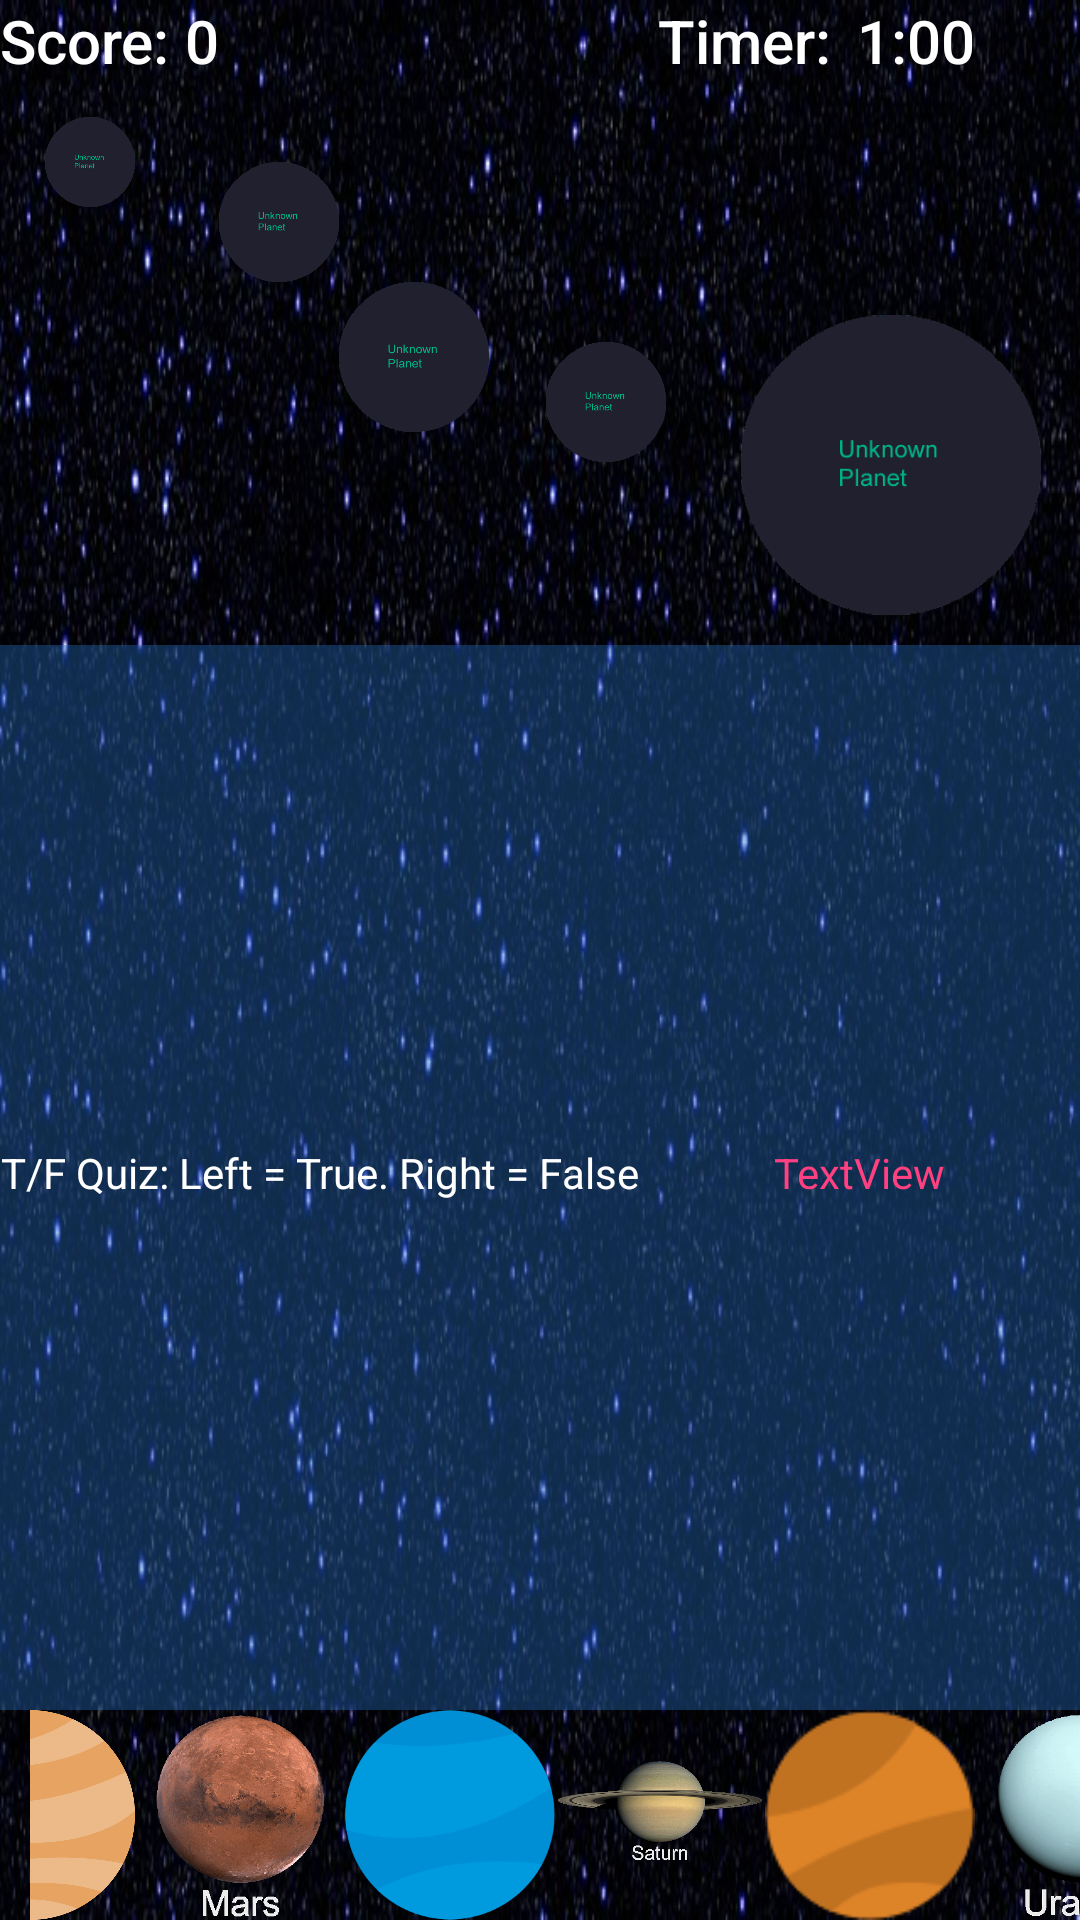

Screen size 1080×1920. Icon name, then its center in pixels as [x,y]:
neptune: [450,1815]
